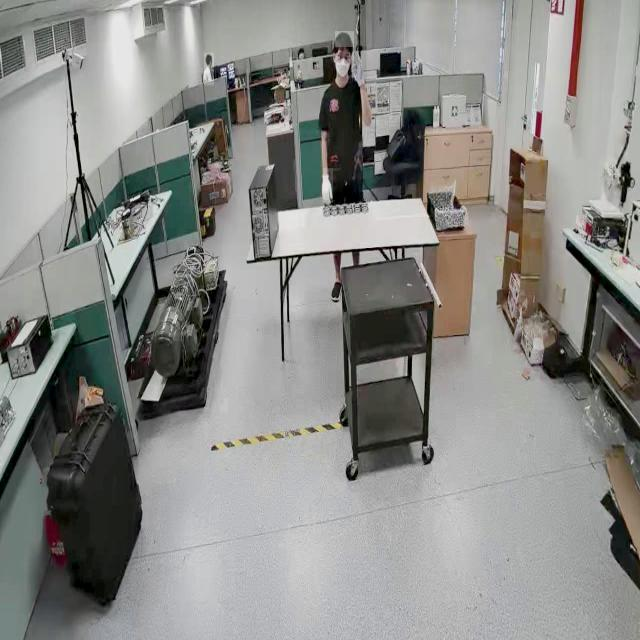face_mask: (334, 55, 350, 82)
glasses: (333, 51, 352, 67)
hand_glove: (356, 46, 366, 91), (322, 168, 333, 204)
head_nohelmet: (334, 31, 354, 48), (206, 52, 213, 59)
person: (318, 31, 372, 209), (204, 52, 214, 86)
shoes: (331, 276, 344, 305)
